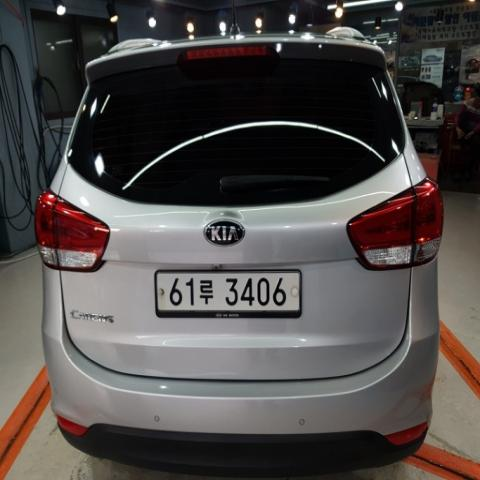LP: (147, 265, 306, 327)
